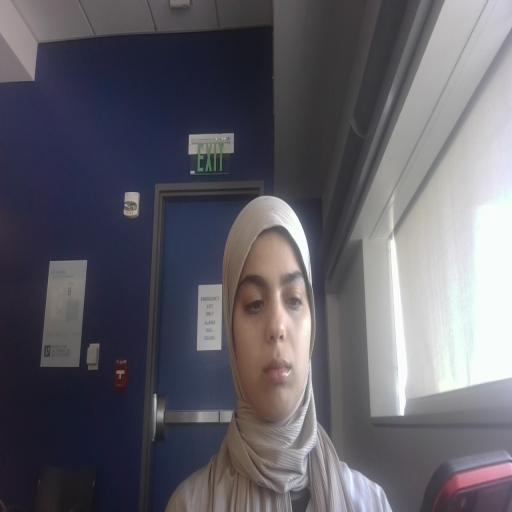phone: (407, 450, 512, 512)
